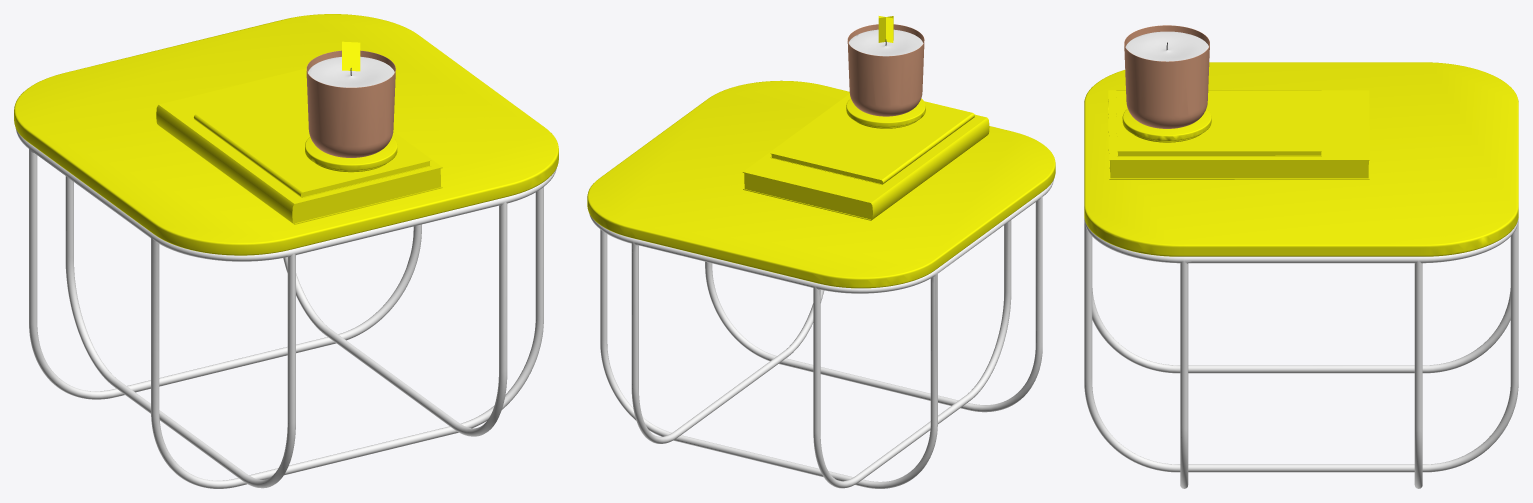
File: designconnected-square-scandi-coffee-table-11631.optimized.glb
3 renders of one model, left to right at view 1: azimuth 30°, elevation 25°; view 2: azimuth 150°, elevation 25°; view 3: azimuth 270°, elevation 25°, orthographic. The views are drawn at different scales.
Visible parts, largest first — view 1: Menu_Fuwl_Cage_Table_02_mat1_01, Menu_Fuwl_Cage_Table_02_mat1_03, Menu_Fuwl_Cage_Table_02_mat1_02; view 2: Menu_Fuwl_Cage_Table_02_mat1_01, Menu_Fuwl_Cage_Table_02_mat1_03, Menu_Fuwl_Cage_Table_02_mat1_02; view 3: Menu_Fuwl_Cage_Table_02_mat1_01, Menu_Fuwl_Cage_Table_02_mat1_03, Menu_Fuwl_Cage_Table_02_mat1_02.
Boxes of the visible parts, bbox=[...] form: Menu_Fuwl_Cage_Table_02_mat1_01: bbox=[14, 14, 558, 488]; Menu_Fuwl_Cage_Table_02_mat1_03: bbox=[156, 68, 442, 224]; Menu_Fuwl_Cage_Table_02_mat1_02: bbox=[306, 41, 395, 157]; Menu_Fuwl_Cage_Table_02_mat1_01: bbox=[587, 80, 1055, 488]; Menu_Fuwl_Cage_Table_02_mat1_03: bbox=[742, 94, 989, 220]; Menu_Fuwl_Cage_Table_02_mat1_02: bbox=[847, 16, 924, 116]; Menu_Fuwl_Cage_Table_02_mat1_01: bbox=[1084, 62, 1518, 488]; Menu_Fuwl_Cage_Table_02_mat1_03: bbox=[1108, 90, 1369, 179]; Menu_Fuwl_Cage_Table_02_mat1_02: bbox=[1124, 25, 1209, 128].
Bounding box in the file's own units: 0.43 × 0.4456 × 0.43.
